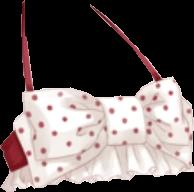Bodice: (0, 0, 193, 191)
Neckline: (24, 0, 154, 100)
Waistline: (1, 169, 193, 191)
